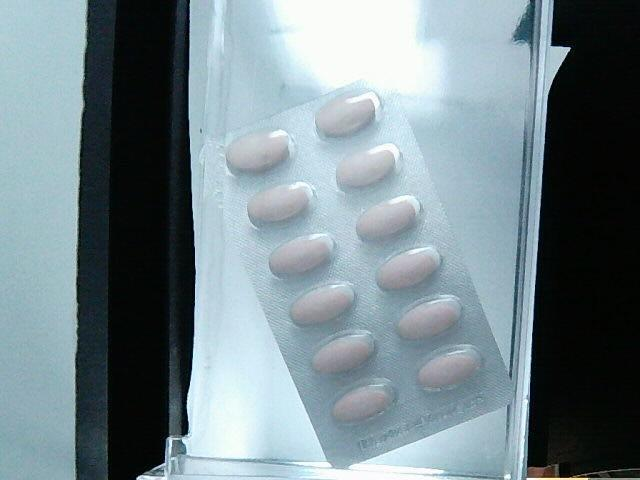Light Front: (199, 71, 518, 471)
Pill Front: (217, 118, 301, 187), (259, 225, 340, 284), (347, 188, 430, 245), (305, 325, 387, 380), (311, 83, 387, 142), (247, 172, 323, 231), (283, 274, 366, 328), (372, 239, 450, 294), (387, 287, 465, 342), (411, 341, 486, 398), (330, 138, 402, 192), (328, 377, 398, 429)
